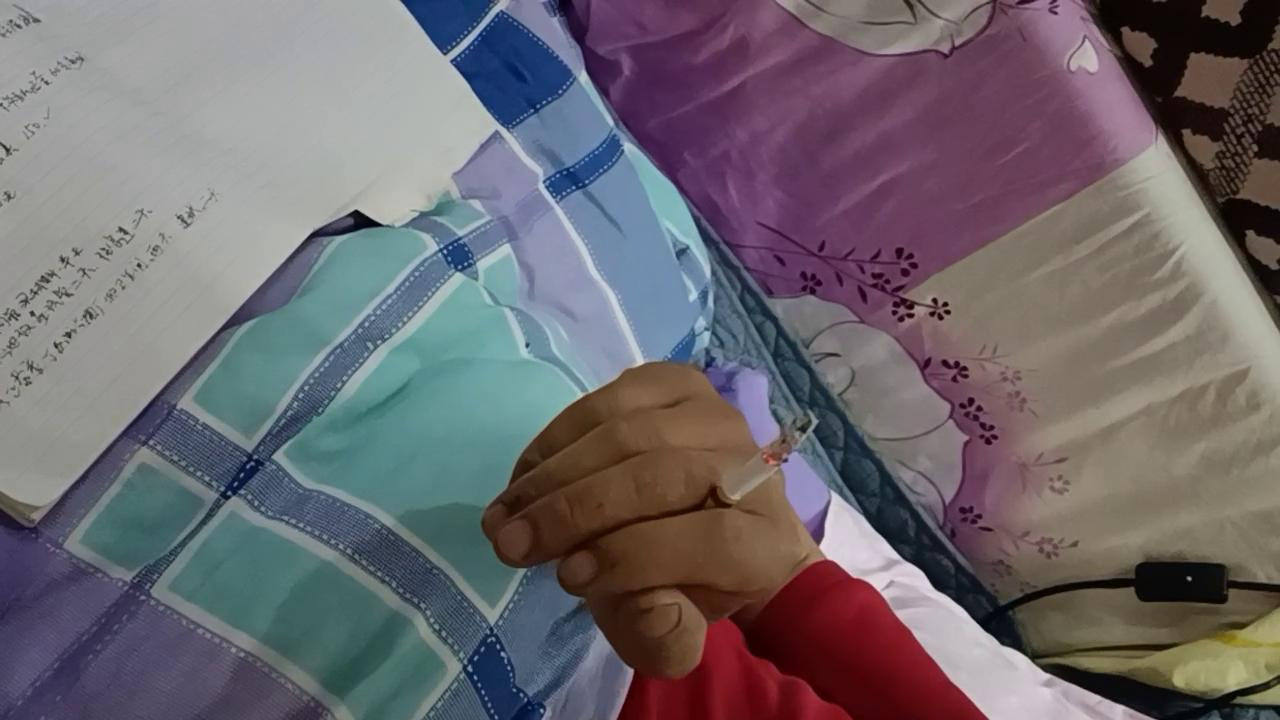smoke: (692, 410, 818, 523)
